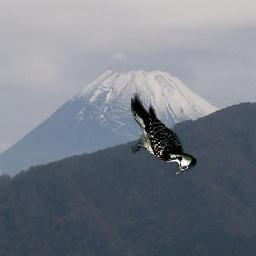Woodpecker: (131, 93, 197, 175)
